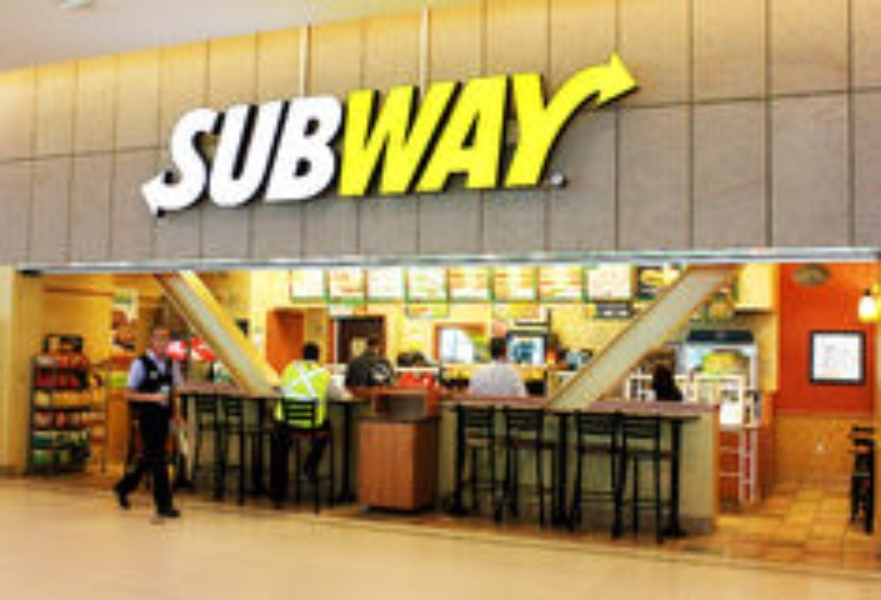text: (145, 53, 160, 214), (161, 53, 176, 214), (177, 53, 192, 214), (193, 53, 208, 214), (209, 53, 224, 214), (225, 53, 240, 214), (241, 53, 256, 214), (257, 53, 272, 214), (273, 53, 288, 214), (289, 53, 304, 214), (305, 53, 320, 214), (321, 53, 336, 214), (337, 53, 352, 214), (353, 53, 368, 214), (369, 53, 384, 214), (385, 53, 400, 214), (401, 53, 416, 214), (417, 53, 432, 214), (433, 53, 448, 214), (449, 53, 464, 214), (465, 53, 480, 214), (481, 53, 496, 214), (497, 53, 512, 214), (513, 53, 528, 214), (529, 53, 544, 214), (545, 53, 560, 214), (561, 53, 576, 214), (577, 53, 592, 214), (593, 53, 608, 214), (609, 53, 624, 214), (625, 53, 638, 214), (143, 53, 144, 214)
